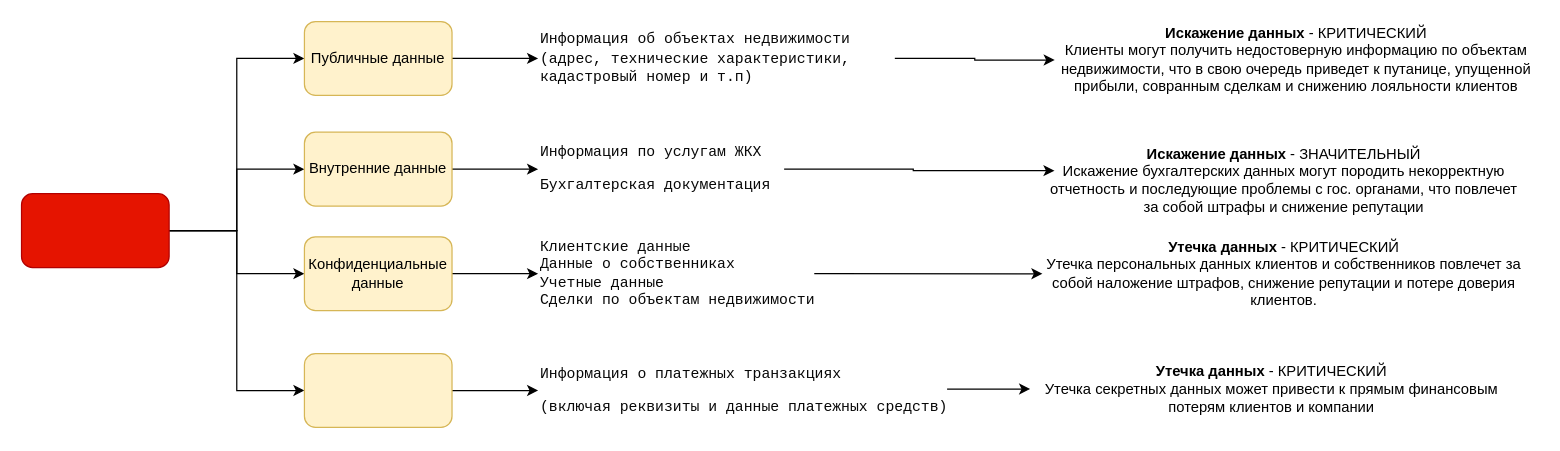
This 1560x451 diagram has some shape labels left out. The centre of each missing label's shape, as x and y in pixels:
"Безопастность данных" goes at (x=94, y=230).
"Секретные дан ные" goes at (x=377, y=389).
